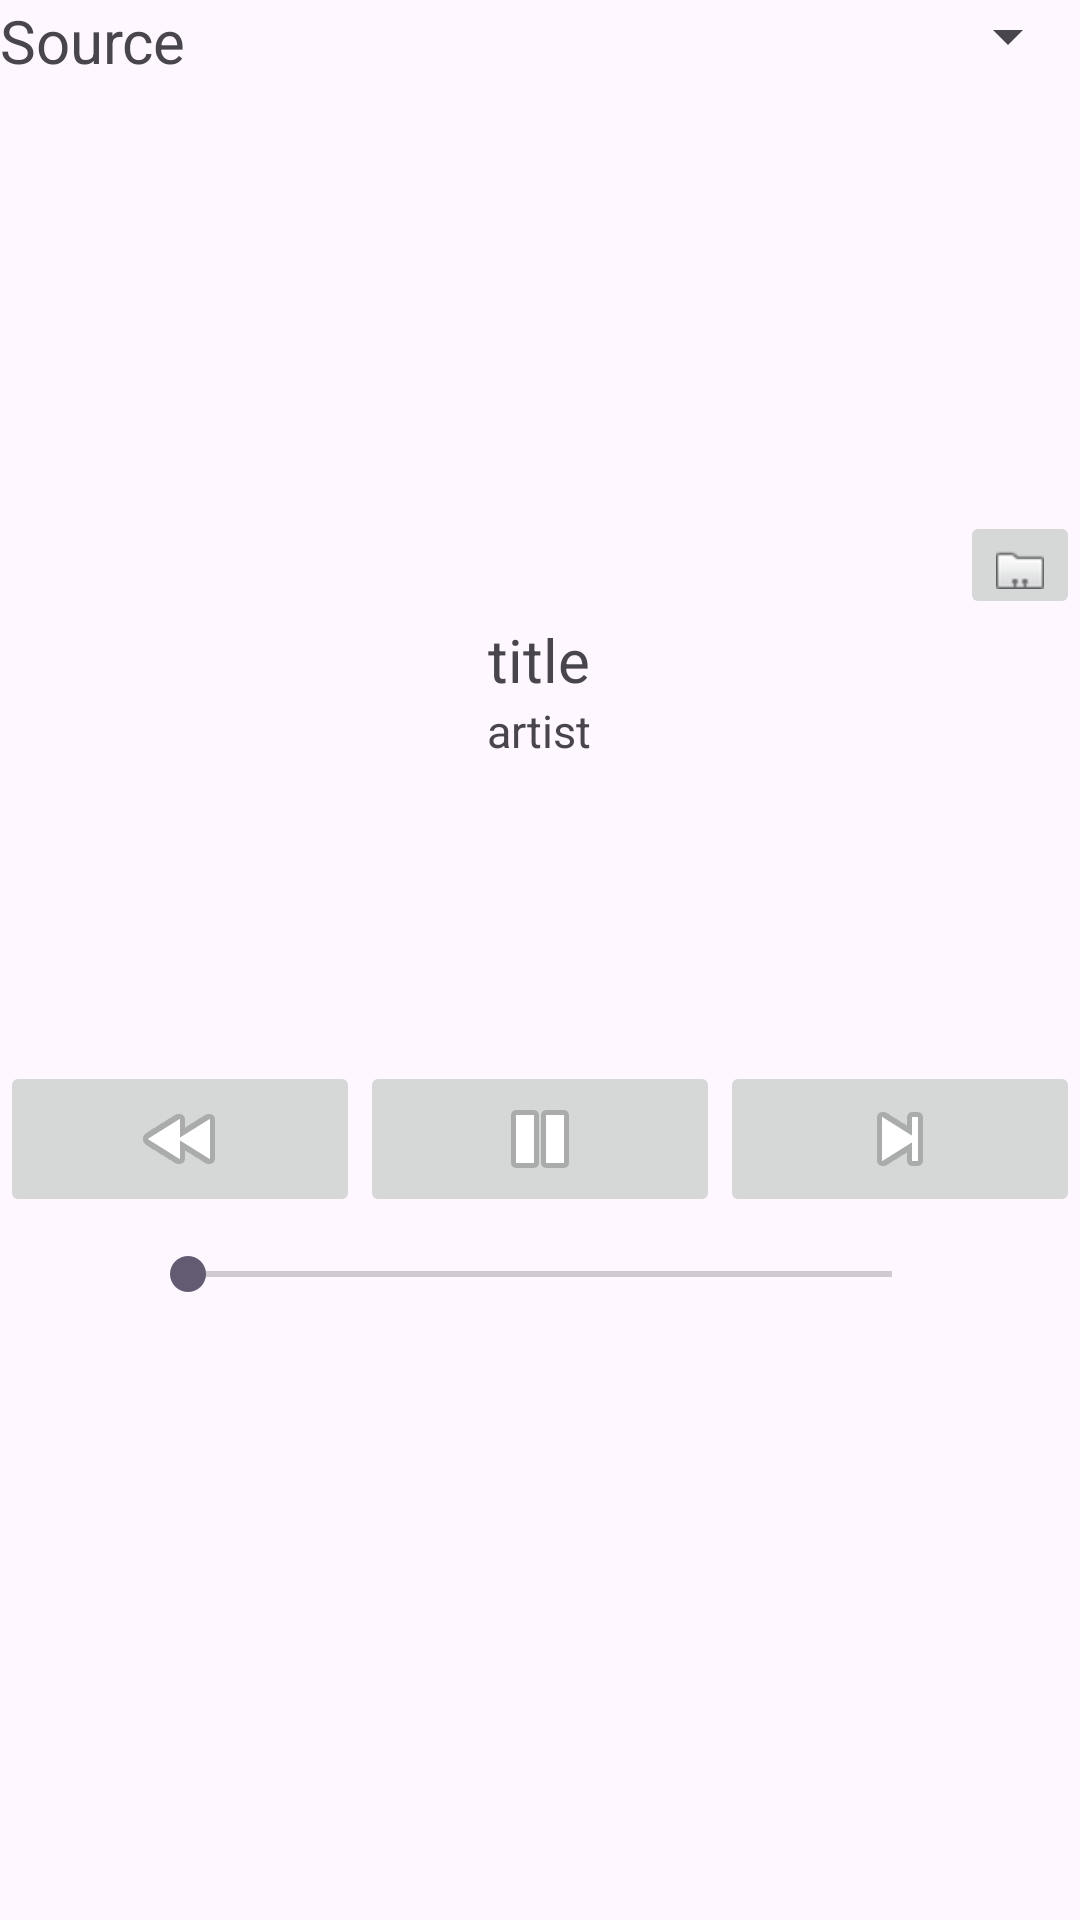

Where to tap for icons on this 1080×1920 app screen, as (x,y):
next: (900,1139)
pause: (540,1139)
rew: (180,1139)
